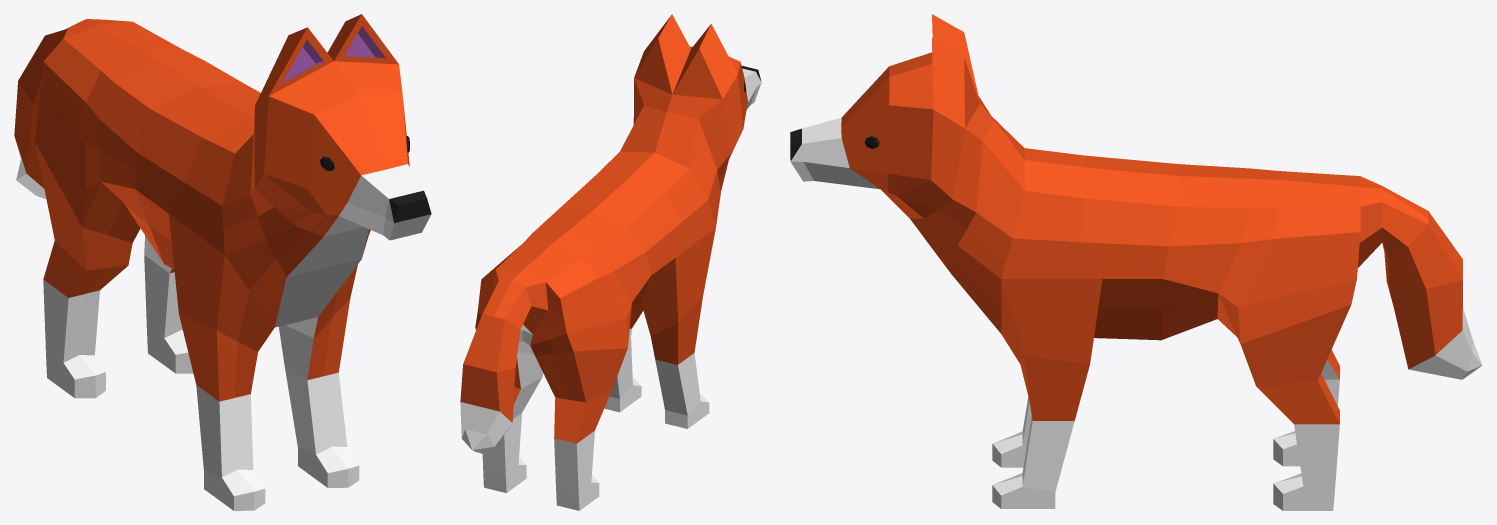
3 renders of one model, left to right at view 1: azimuth 30°, elevation 25°; view 2: azimuth 150°, elevation 25°; view 3: azimuth 270°, elevation 25°, orthographic. The views are drawn at different scales.
Visible parts, largest first — view 1: Fox_01_Cube.046; view 2: Fox_01_Cube.046; view 3: Fox_01_Cube.046.
Part boxes in pixels (x1,y1,x2,y2): Fox_01_Cube.046: (14, 14, 431, 510); Fox_01_Cube.046: (460, 14, 761, 510); Fox_01_Cube.046: (790, 14, 1482, 510).
Bounding box in the file's own units: 3.52 × 10.33 × 14.22.
